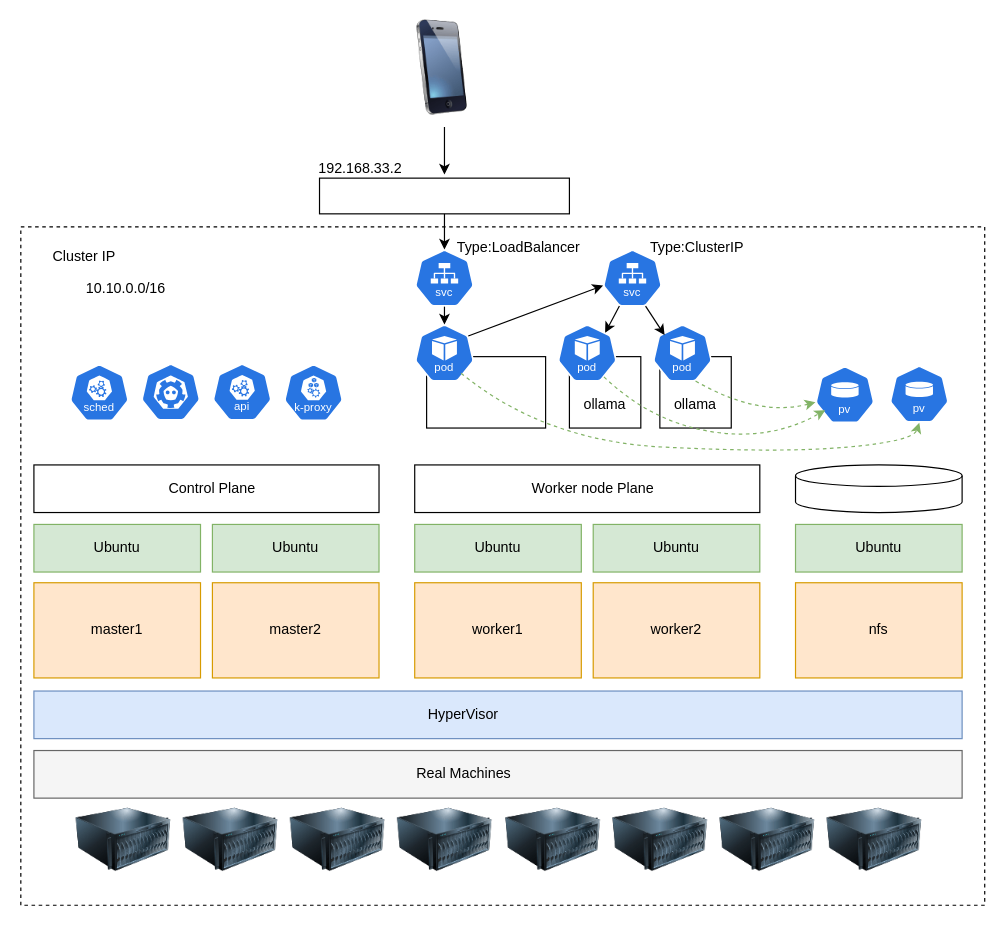
This 1006x927 diagram has some shape labels left out. The shapes that lost their labels are listed below. From the top down, each one's centre as x and y in pixels, then its label:
point 443,195: Load Balancer
point 485,391: open webui
point 878,488: sc
